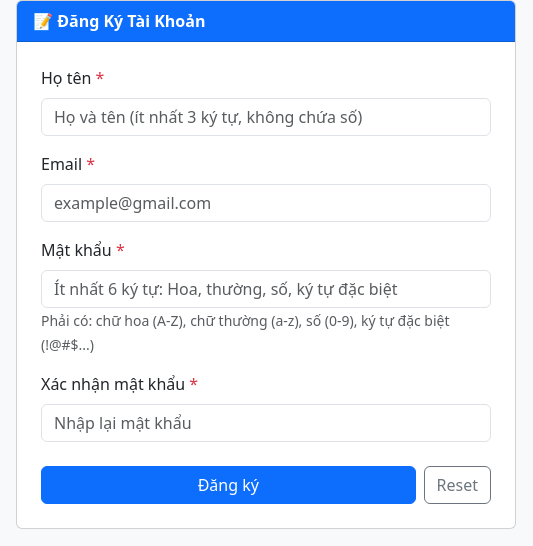
Test: Bài 5 – Form Validation › ✅ Task 3 – RESET › xóa trắng form khi nhấn Reset
Type "BichTra" into the field with test id "input-name" at (266, 117), box x1=41 y1=98 x2=491 y2=136
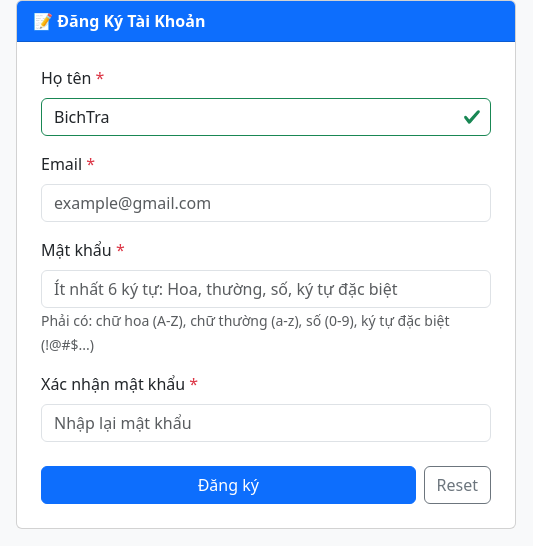
Click the button with test id "btn-reset" at (457, 485), box x1=424 y1=466 x2=491 y2=504
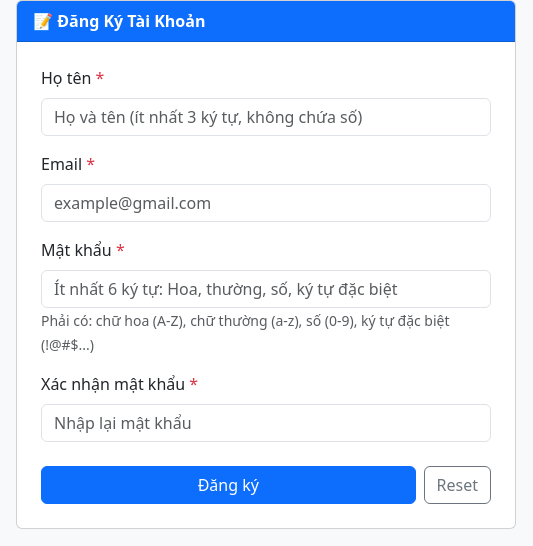
Now the field with test id "input-name" is empty, box x1=41 y1=98 x2=491 y2=136
